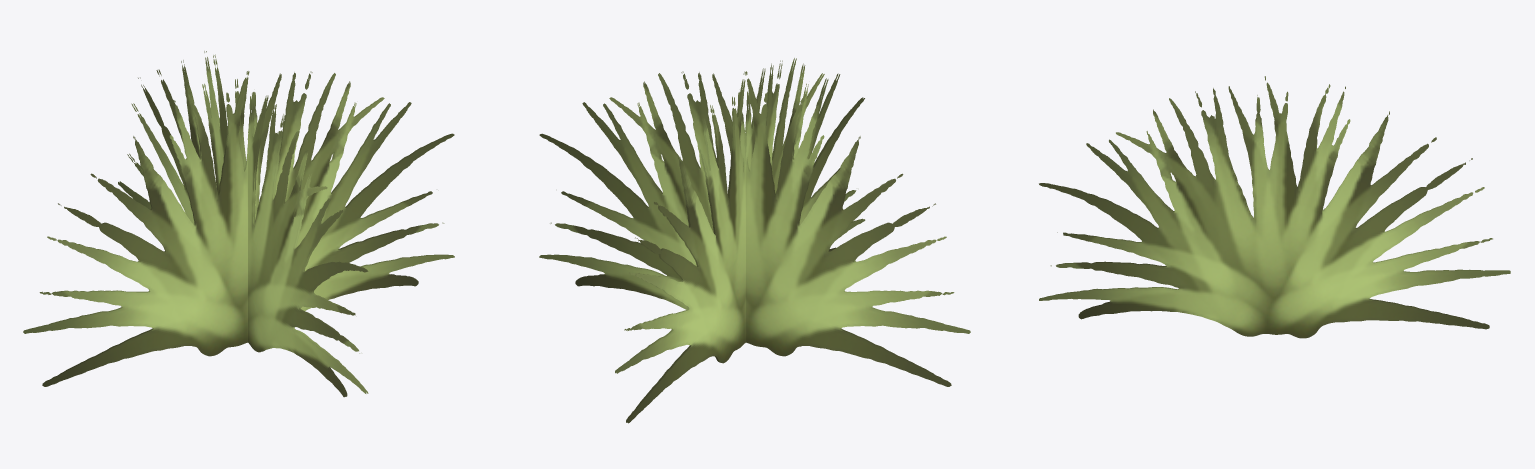
File: painted-weed-2.glb
3 renders of one model, left to right at view 1: azimuth 30°, elevation 25°; view 2: azimuth 150°, elevation 25°; view 3: azimuth 270°, elevation 25°, orthographic. The views are drawn at different scales.
Bounding box in the file's own units: 10 × 6.65 × 10.
1 material, 1 textured.
